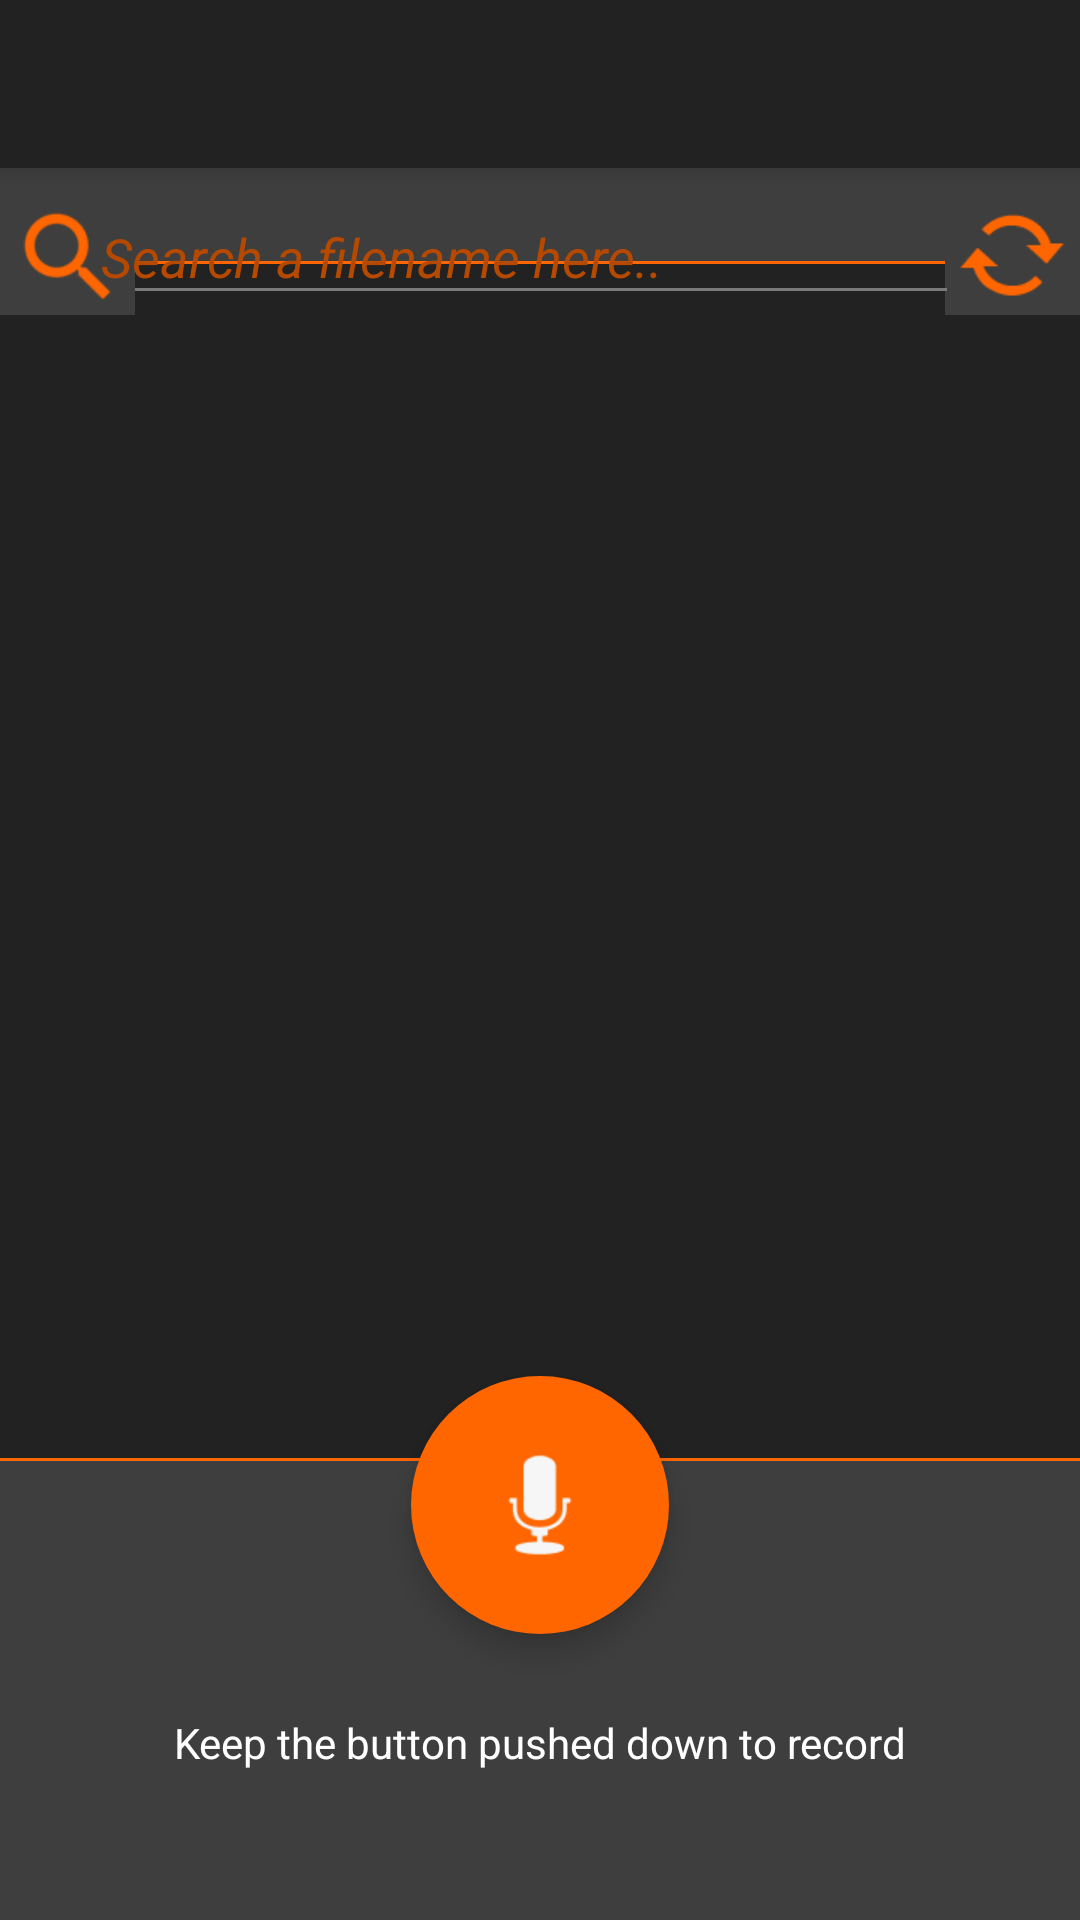

Point at icon controls on the screen. Image size 1080x1920, points as (x,y).
speak now: (540,1505)
sync: (1012,255)
